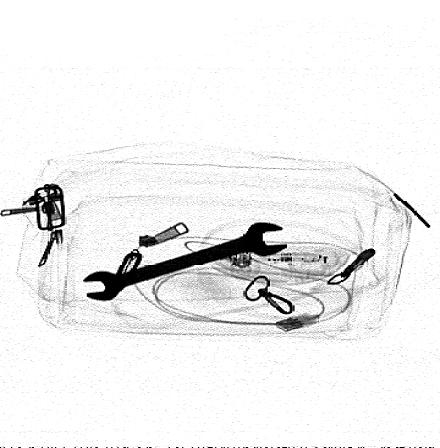Wrench: (83, 222, 287, 300)
